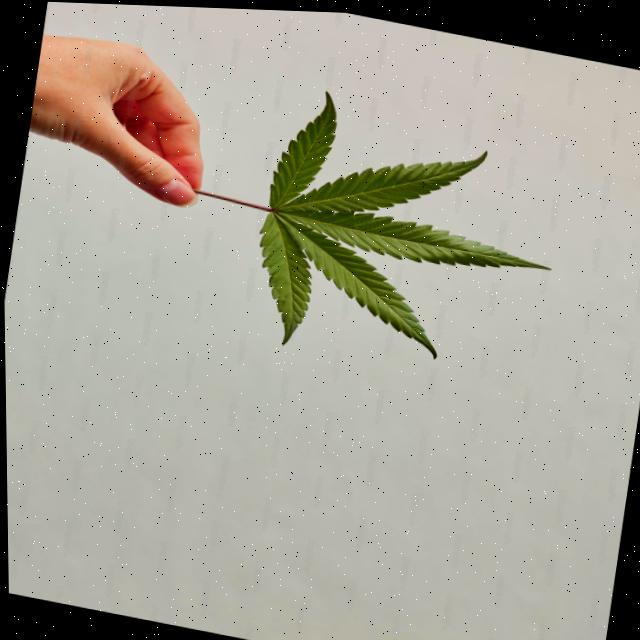cannabis: (194, 93, 546, 359)
